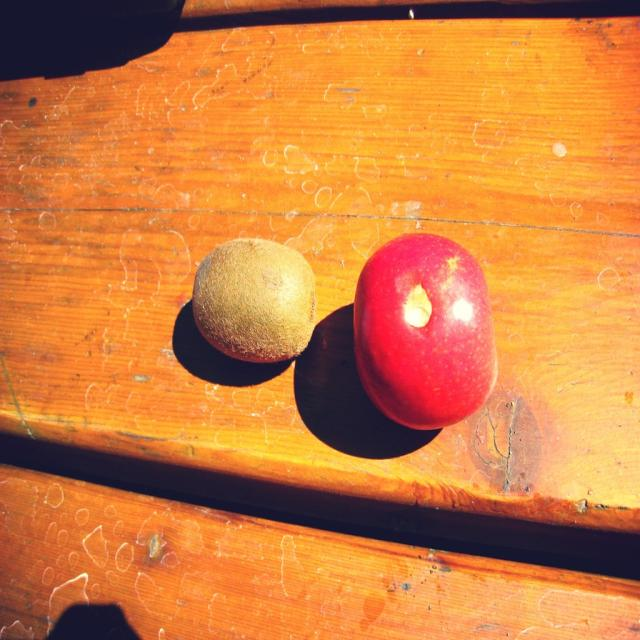Healty Apple: (349, 235, 496, 438)
